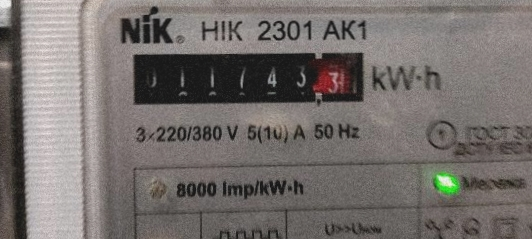0: (144, 62, 158, 90)
1: (205, 60, 217, 89), (176, 61, 186, 88)
3: (294, 61, 308, 89), (325, 70, 340, 95)
4: (264, 62, 278, 89)
7: (234, 60, 249, 88)
screen: (121, 38, 376, 117)
